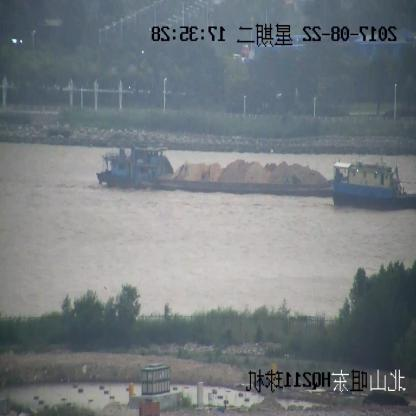Fishing Boat: (330, 161, 416, 210)
